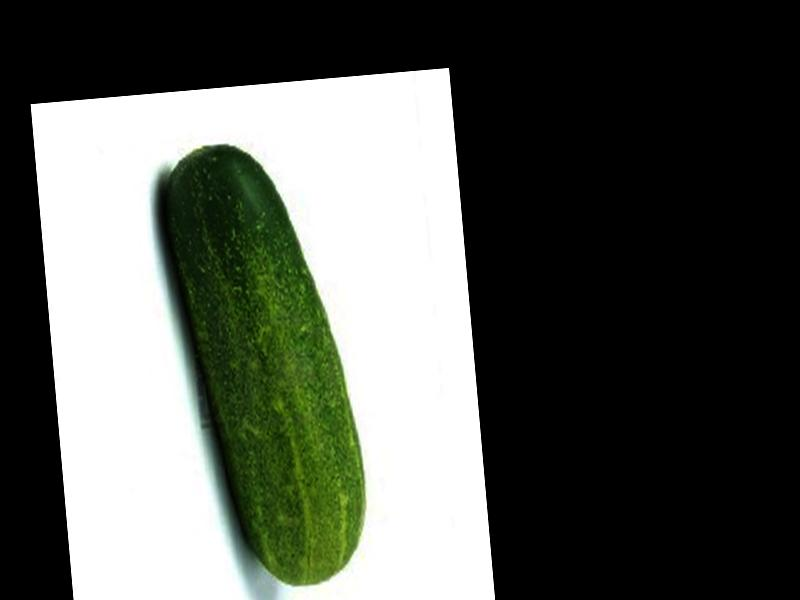Cucumber: (158, 136, 372, 594)
